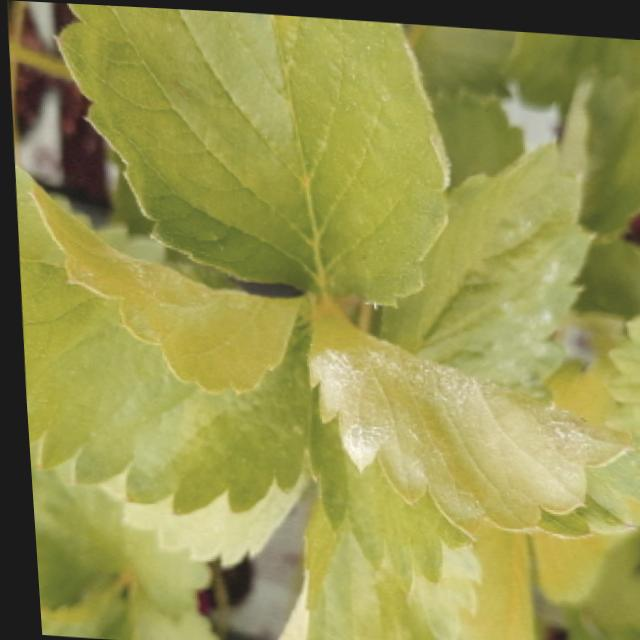Powdery Mildew Leaf: (298, 287, 640, 593), (370, 131, 590, 401), (265, 495, 474, 640)
